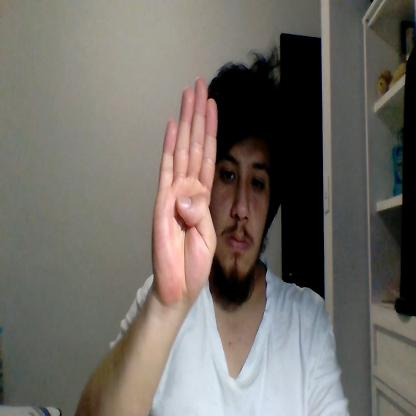B: (152, 75, 217, 304)
